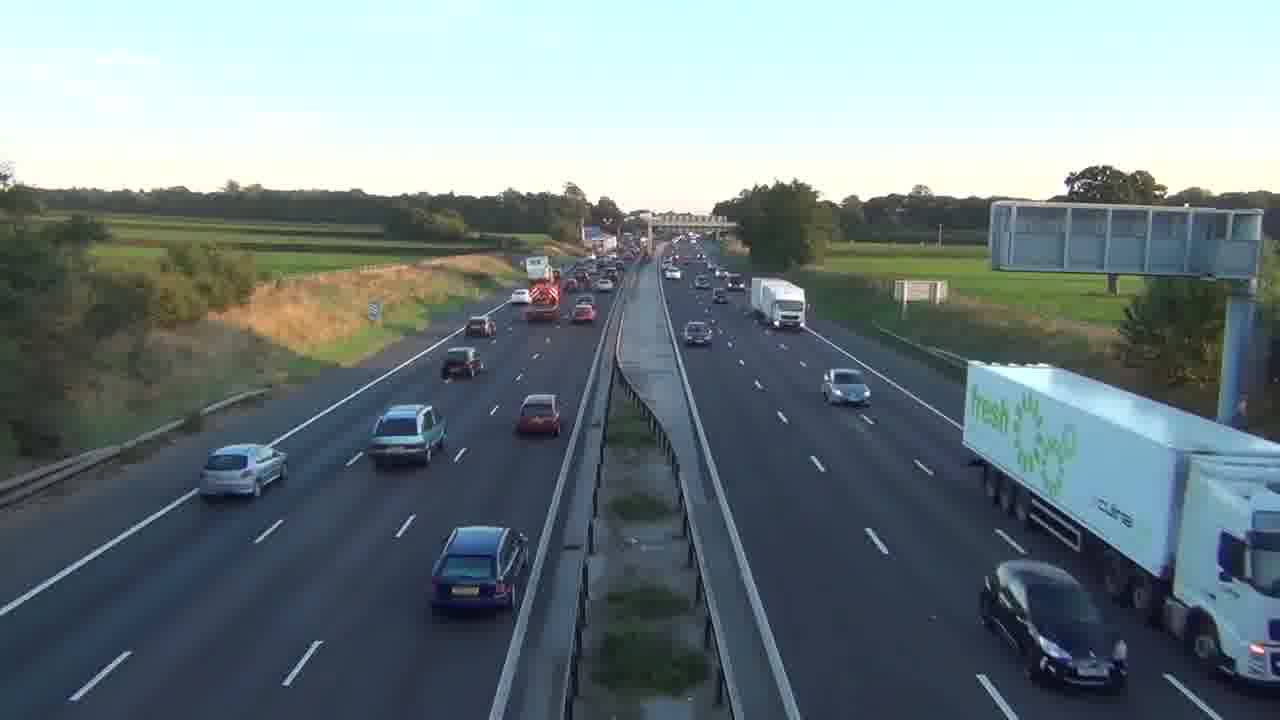car: (430, 524, 530, 615), (367, 402, 449, 468), (198, 443, 288, 501), (514, 393, 562, 436), (822, 367, 872, 407), (441, 346, 484, 381), (683, 320, 714, 347)
truck: (961, 360, 1279, 691), (977, 557, 1130, 694), (753, 277, 806, 329)
